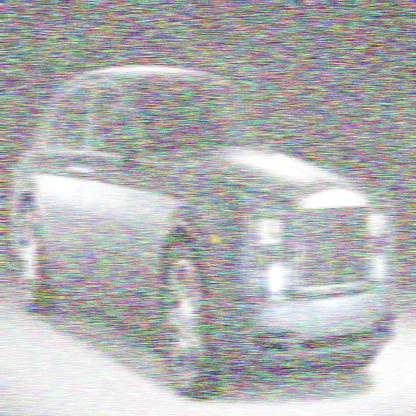Vehicle: (6, 40, 414, 404)
